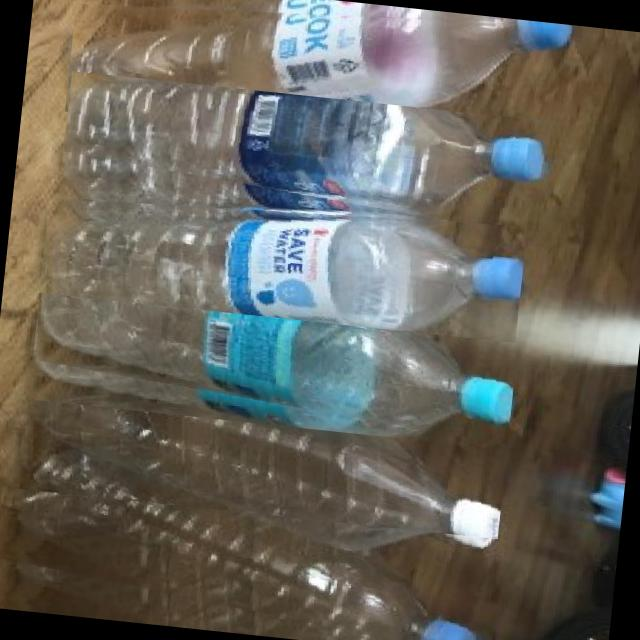plastic bottle: (8, 398, 506, 580), (62, 0, 572, 163), (35, 175, 526, 342), (59, 70, 552, 236), (0, 486, 496, 640), (24, 292, 516, 445)
